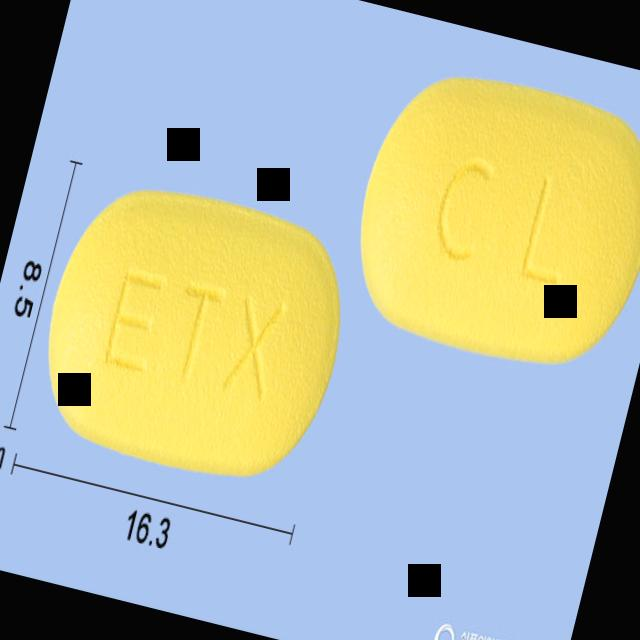Clarosin: (20, 165, 368, 501), (331, 49, 640, 390)
